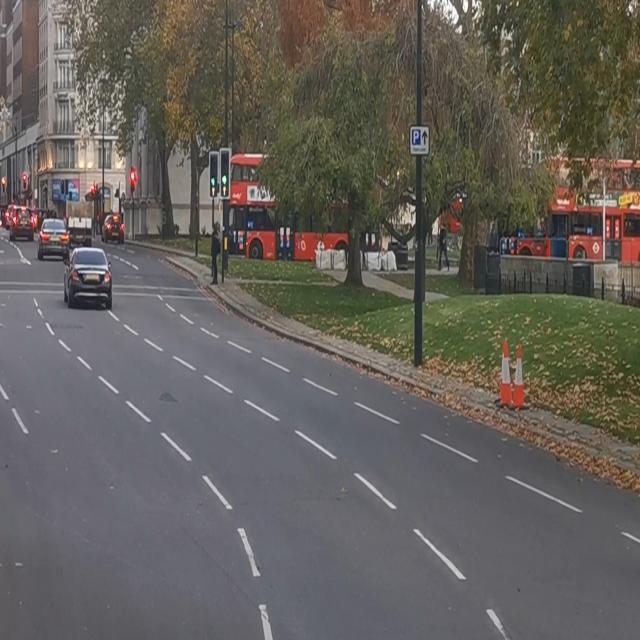Car: (64, 246, 114, 315)
